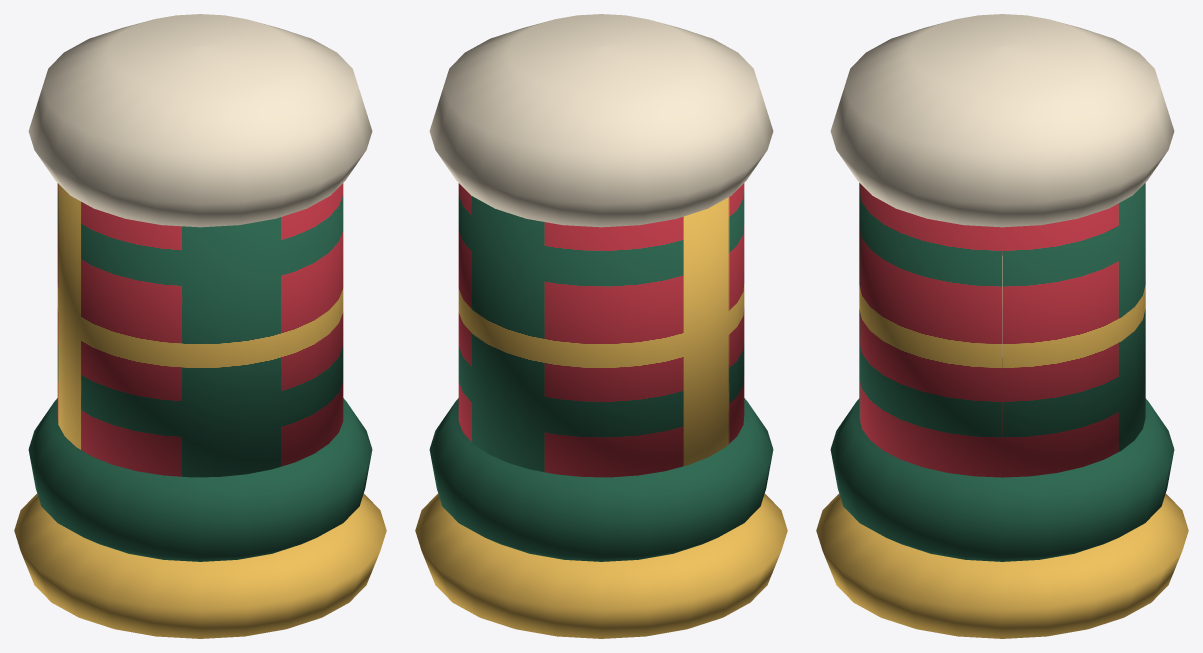
Rendered from ACC_TH_BARBERSHOP_Primary.fbx.
The picture shows the model from 3 angles, left to right: view 1: azimuth 30°, elevation 25°; view 2: azimuth 150°, elevation 25°; view 3: azimuth 270°, elevation 25°; orthographic projection.
Parts seen in each view (by area): view 1: ACC_TH_BARBERSHOP_Primary; view 2: ACC_TH_BARBERSHOP_Primary; view 3: ACC_TH_BARBERSHOP_Primary.
Boxes of the visible parts, box(x1,y1,x2,y2) form: ACC_TH_BARBERSHOP_Primary: box(14, 14, 386, 638); ACC_TH_BARBERSHOP_Primary: box(415, 14, 787, 638); ACC_TH_BARBERSHOP_Primary: box(816, 14, 1188, 638).
Size of the model in its own units: 52 by 80 by 52.
